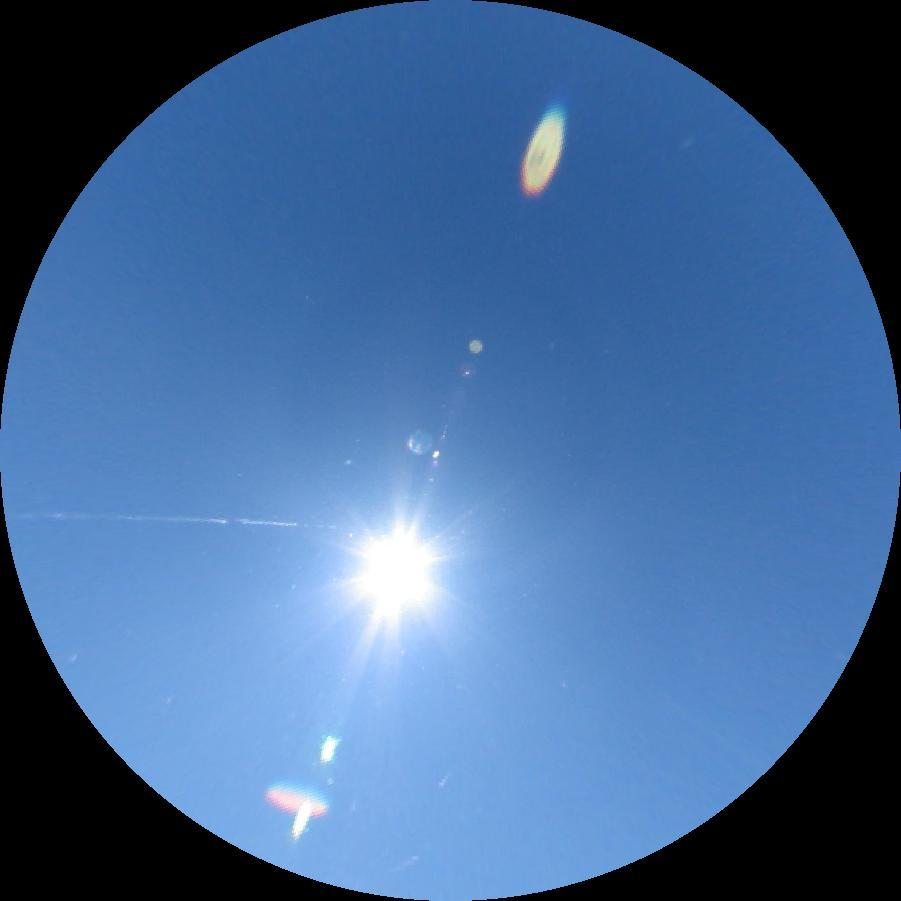contrail young: (383, 853, 422, 878), (436, 766, 455, 791)
parasite: (5, 510, 336, 532)
sun: (340, 515, 451, 626)
